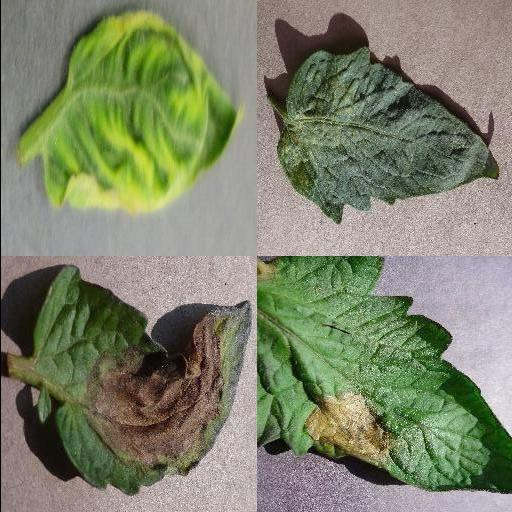Late Blight: (256, 256, 512, 495), (33, 265, 255, 495)
Spider Mites: (276, 47, 498, 225)
Yellow Leaf Curl Virus: (40, 12, 244, 214)
